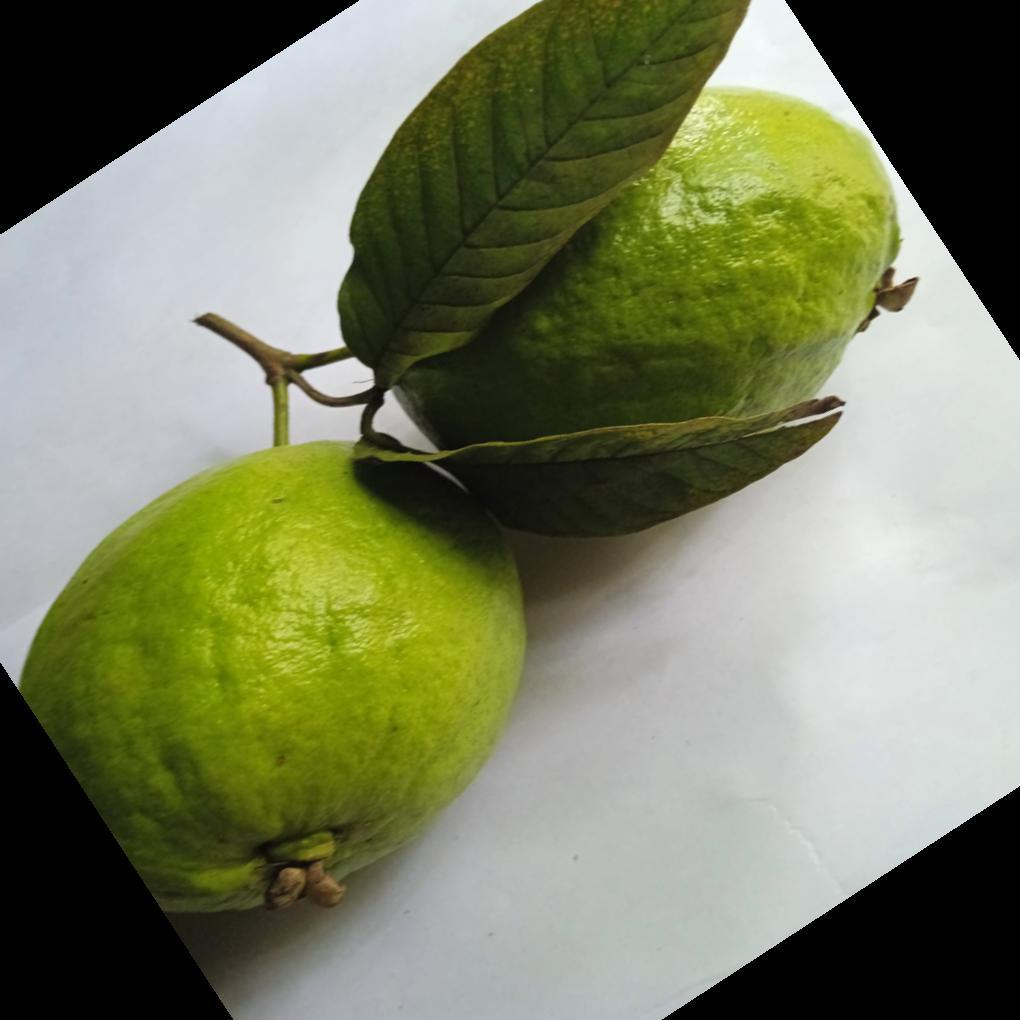FreshGuava: (17, 85, 903, 917)
